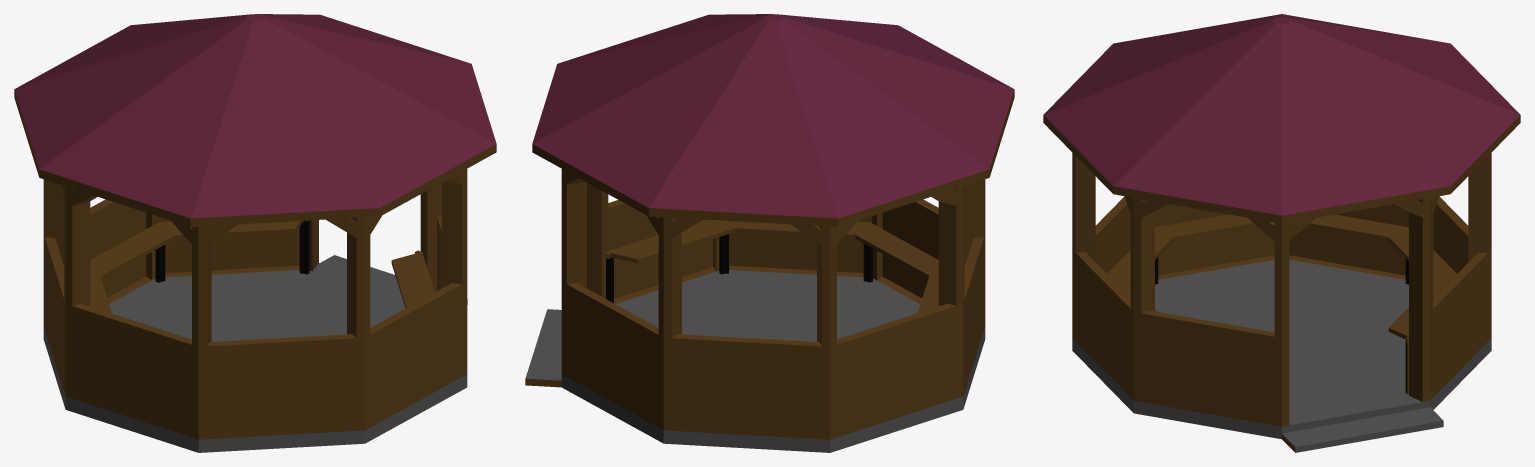
The model's file is uploads_files_2675900_gazebo.fbx.
3 views of the same model, side by side, from view 1: azimuth 30°, elevation 25°; view 2: azimuth 150°, elevation 25°; view 3: azimuth 270°, elevation 25° (orthographic). The views are drawn at different scales.
Visible parts, largest first — view 1: Circle; view 2: Circle; view 3: Circle.
Part boxes in pixels (x1,y1,x2,y2): Circle: [14, 14, 496, 452]; Circle: [525, 14, 1014, 452]; Circle: [1043, 14, 1520, 452].
Bounding box in the file's own units: 344 × 261 × 342.
